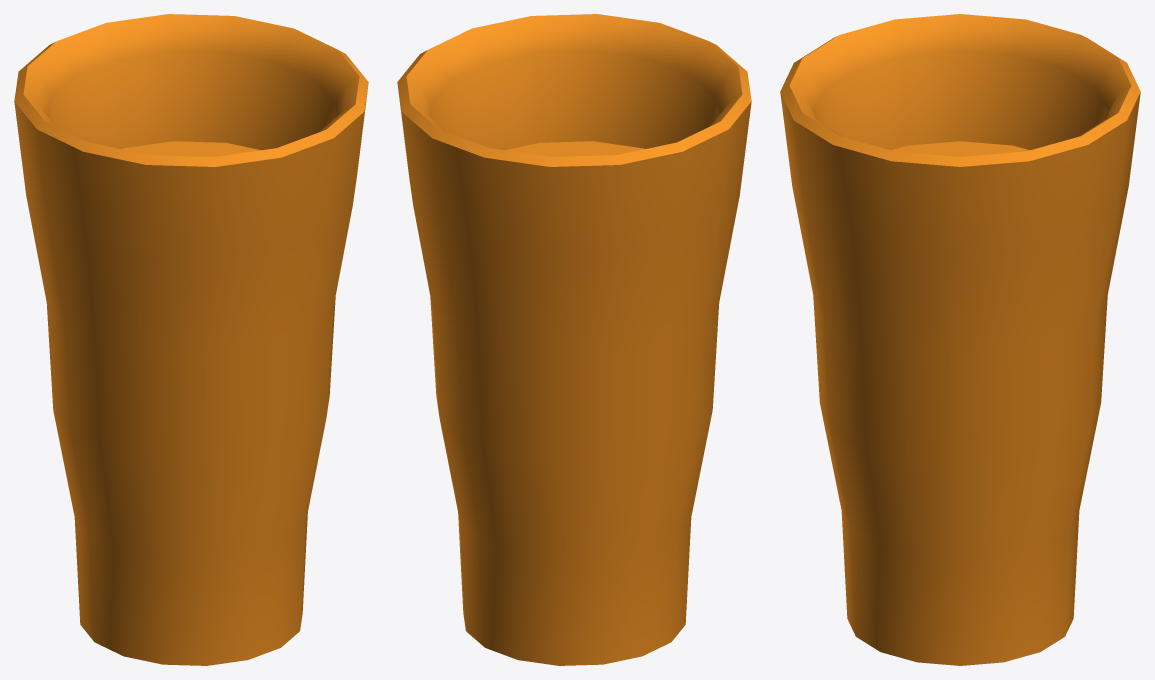
Rendered from CoralCupC.FBX.
3 renders of one model, left to right at view 1: azimuth 30°, elevation 25°; view 2: azimuth 150°, elevation 25°; view 3: azimuth 270°, elevation 25°, orthographic.
Parts seen in each view (by area): view 1: CoralC; view 2: CoralC; view 3: CoralC.
Part boxes in pixels (x1,y1,x2,y2): CoralC: (14, 14, 368, 665); CoralC: (397, 14, 751, 665); CoralC: (780, 14, 1140, 665).
Size of the model in its own units: 42.17 by 69.55 by 42.63.
1 material, 1 textured.
